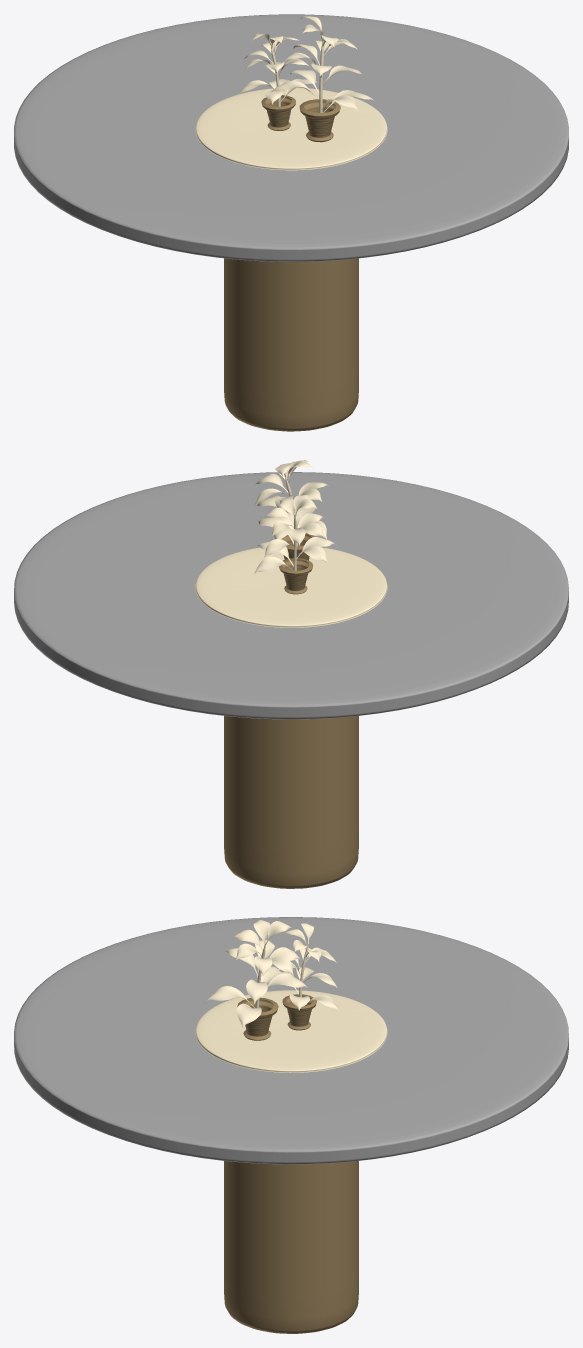
The model's file is MM_MesaComedor.fbx.
3 renders of one model, top to bottom at view 1: azimuth 30°, elevation 25°; view 2: azimuth 150°, elevation 25°; view 3: azimuth 270°, elevation 25°, orthographic.
Visible parts, largest first — view 1: MesaComedor; view 2: MesaComedor; view 3: MesaComedor.
Part boxes in pixels (box(x1,y1,x2,y2)): MesaComedor: box(14, 14, 568, 431); MesaComedor: box(14, 460, 568, 888); MesaComedor: box(14, 917, 568, 1333).
Size of the model in its own units: 25.54 by 19.83 by 25.54.
